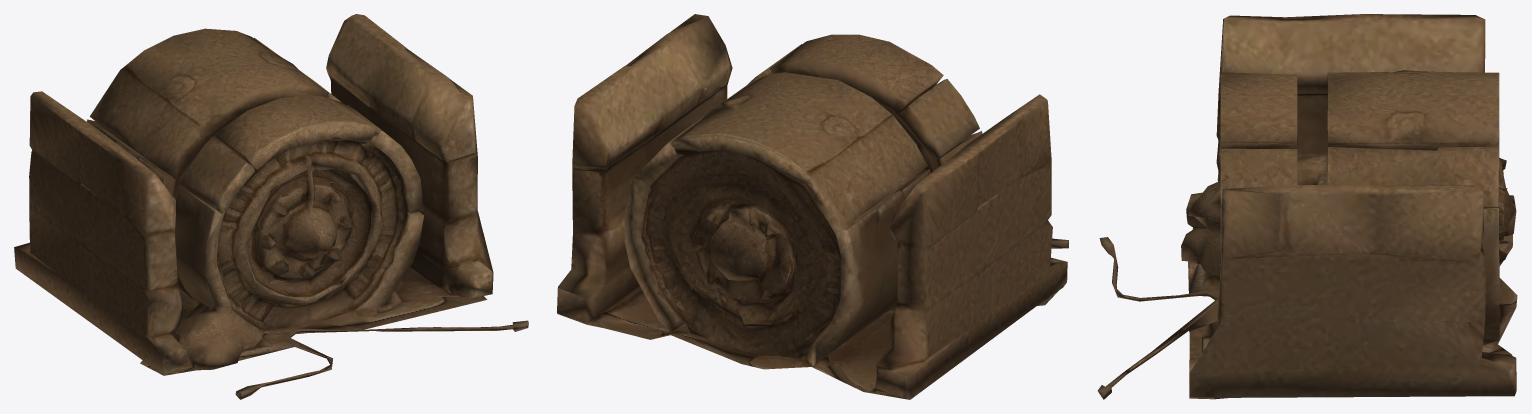
The model's file is drum.glb.
The picture shows the model from 3 angles, left to right: view 1: azimuth 30°, elevation 25°; view 2: azimuth 150°, elevation 25°; view 3: azimuth 270°, elevation 25°; orthographic projection. The views are drawn at different scales.
Size of the model in its own units: 1.9 by 1.13 by 1.88.
1 material, 1 textured.
